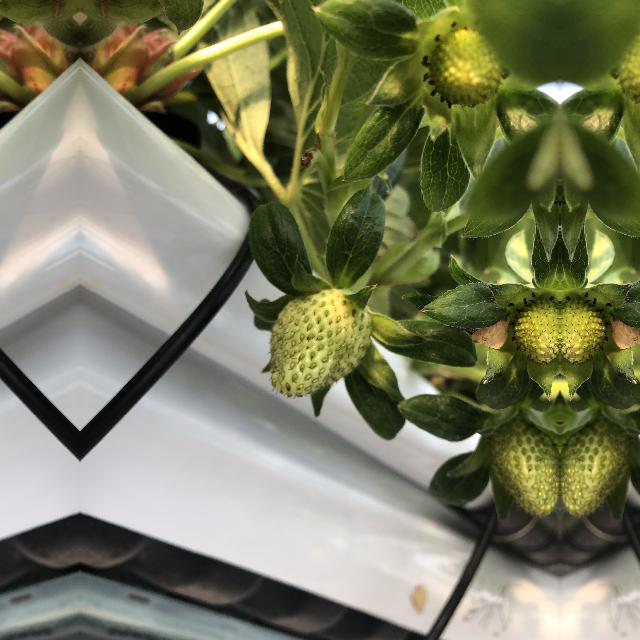Health_25: (260, 278, 382, 406)
